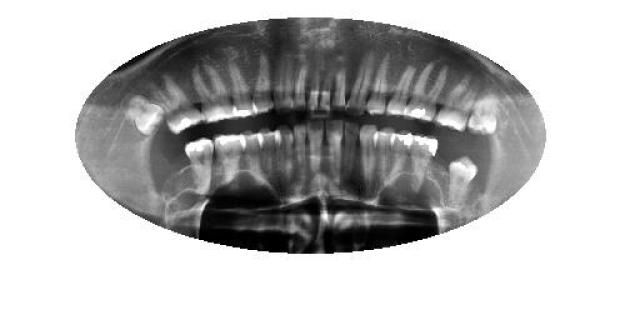Fillings: (152, 74, 202, 136), (405, 62, 447, 122), (181, 138, 215, 196), (408, 132, 438, 194), (231, 61, 259, 119), (214, 134, 245, 186), (390, 130, 412, 188)
Restorations: (125, 94, 165, 138)
